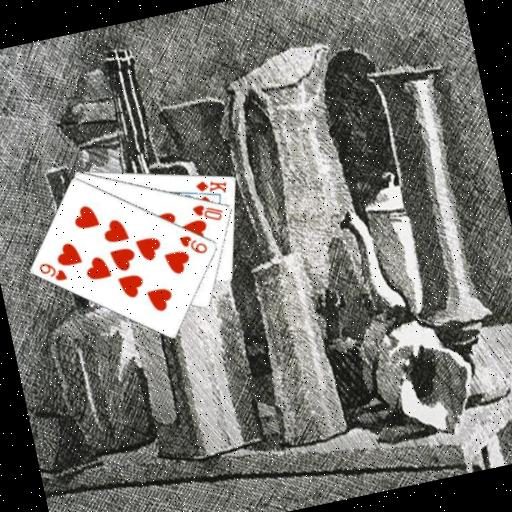10H: (188, 197, 226, 227)
9H: (175, 228, 210, 259), (35, 255, 70, 286)
KD: (192, 173, 230, 200)
